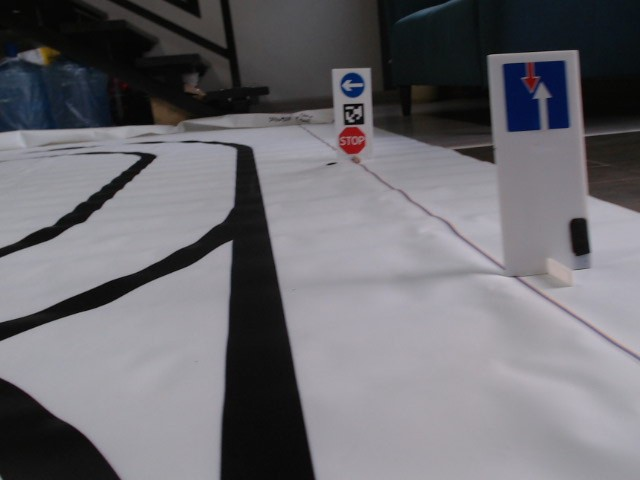Stop: (337, 125, 365, 155)
priority_movement: (498, 59, 572, 132)
